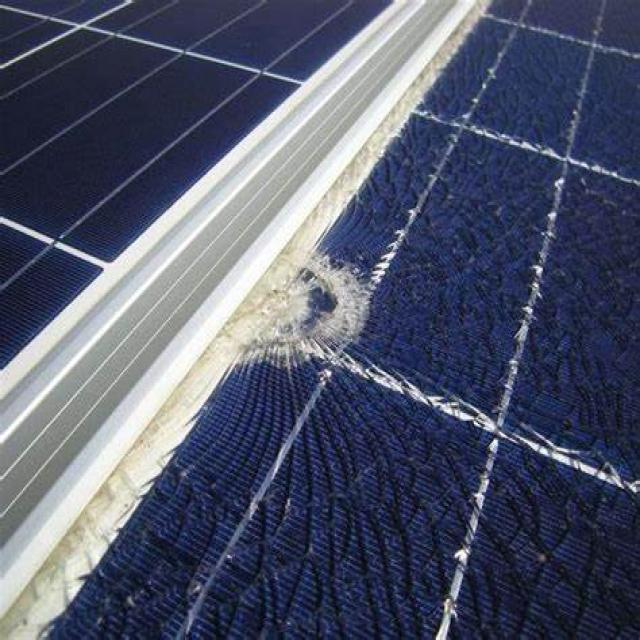Physical-damage: (43, 17, 627, 631)
